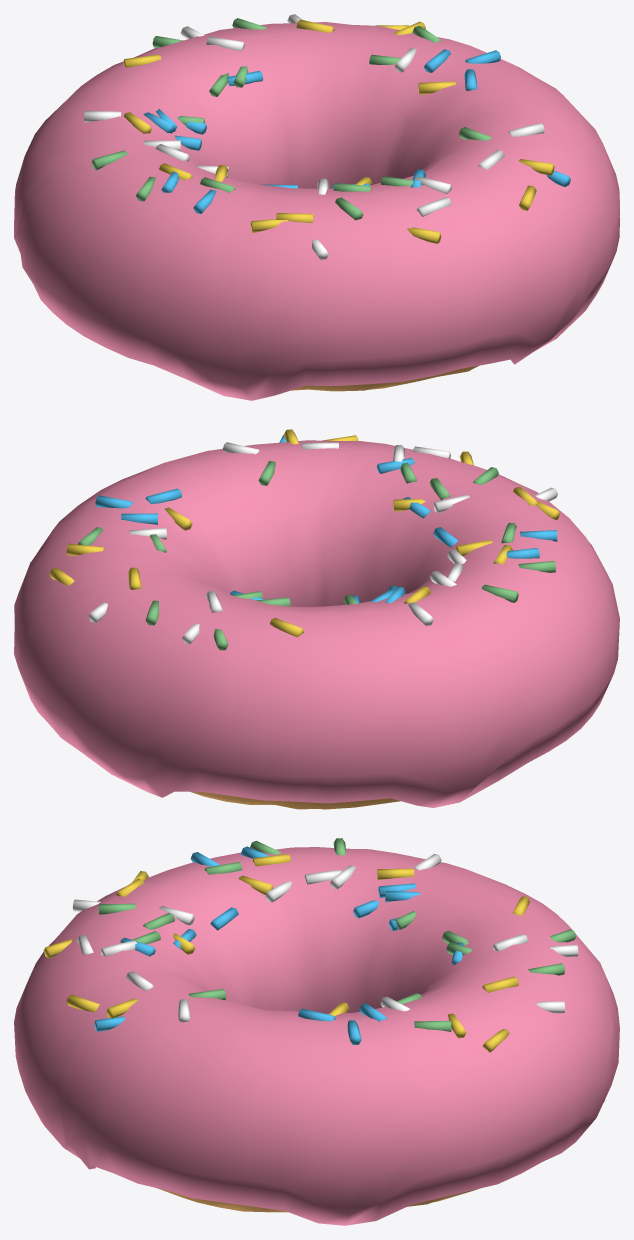
File: items-donut.glb
3 renders of one model, top to bottom at view 1: azimuth 30°, elevation 25°; view 2: azimuth 150°, elevation 25°; view 3: azimuth 270°, elevation 25°, orthographic.
Parts seen in each view (by area): view 1: Donut__Icing, Donut__Sprinkles3, Donut__Sprinkles4, Donut__Sprinkles1, Donut__Sprinkles2, Donut__Dough; view 2: Donut__Icing, Donut__Sprinkles1, Donut__Sprinkles3, Donut__Sprinkles4, Donut__Sprinkles2, Donut__Dough; view 3: Donut__Icing, Donut__Sprinkles1, Donut__Sprinkles3, Donut__Sprinkles4, Donut__Sprinkles2, Donut__Dough.
Part boxes in pixels (<box>): Donut__Icing: <box>14,22,619,400</box>; Donut__Sprinkles3: <box>123,19,554,243</box>; Donut__Sprinkles4: <box>91,18,491,220</box>; Donut__Sprinkles1: <box>84,14,544,259</box>; Donut__Sprinkles2: <box>143,49,570,213</box>; Donut__Dough: <box>291,365,478,391</box>; Donut__Icing: <box>14,440,619,807</box>; Donut__Sprinkles1: <box>88,442,557,644</box>; Donut__Sprinkles3: <box>49,429,559,637</box>; Donut__Sprinkles4: <box>78,461,555,650</box>; Donut__Sprinkles2: <box>95,435,557,603</box>; Donut__Dough: <box>190,791,400,809</box>; Donut__Icing: <box>14,847,619,1225</box>; Donut__Sprinkles1: <box>72,854,578,1022</box>; Donut__Sprinkles3: <box>43,854,530,1052</box>; Donut__Sprinkles4: <box>98,838,575,1031</box>; Donut__Sprinkles2: <box>94,846,463,1044</box>; Donut__Dough: <box>156,1188,477,1212</box>.
Bounding box in the file's own units: 9.27 × 3.21 × 9.26.
